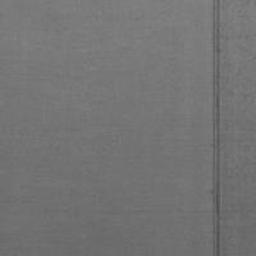Welding line: (211, 0, 223, 256)
